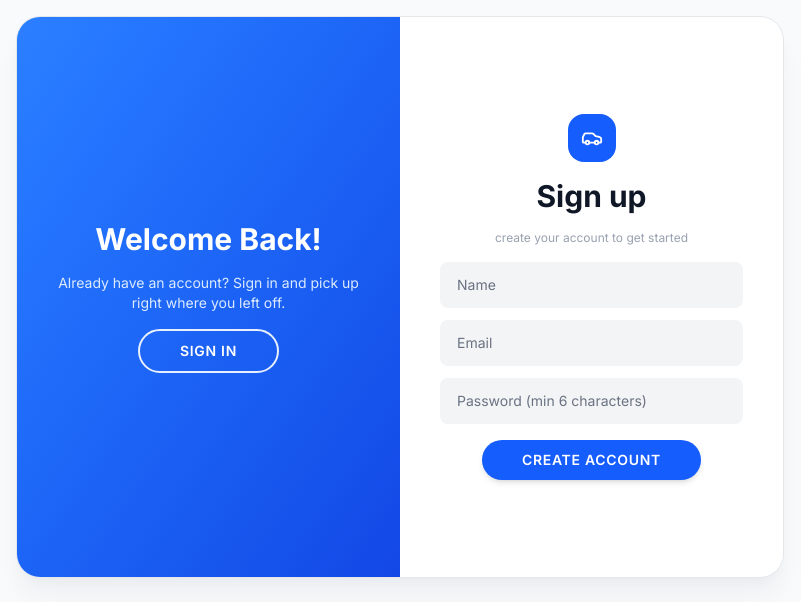
RegisterPage › shows the server error message when the email is taken
In the field labelled "Name": (592, 285) [440, 262, 743, 308], type "Krish"
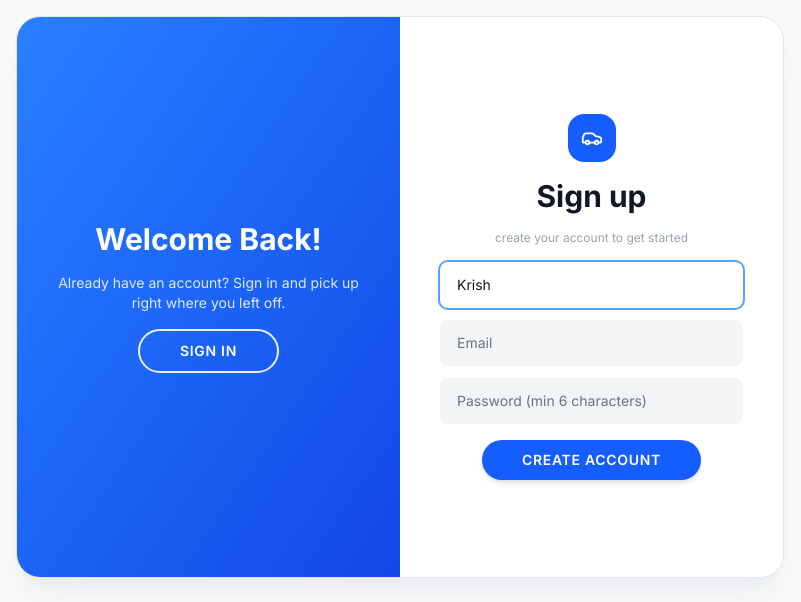
In the field labelled "Email": (592, 343) [440, 320, 743, 366], type "krish@example.com"
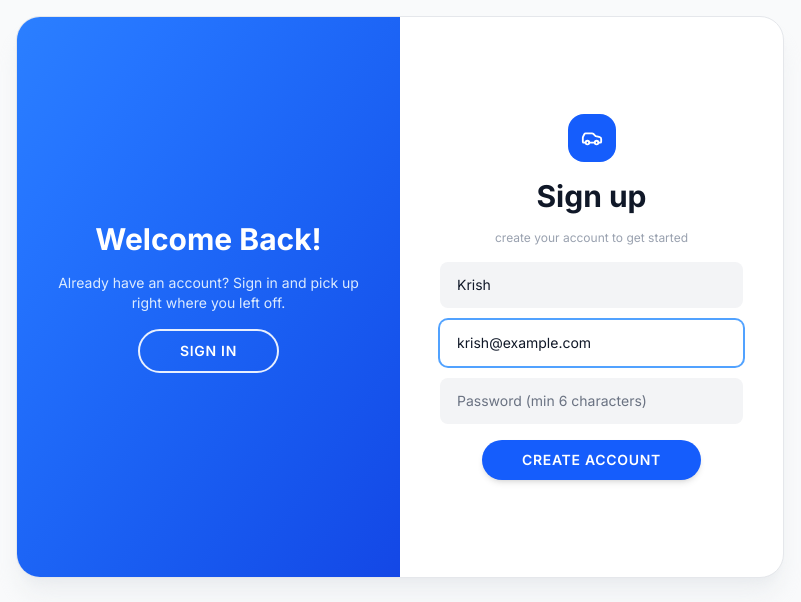
In the password field labelled "Password (min 6 characters)": (592, 401) [440, 378, 743, 424], type "Password123!"
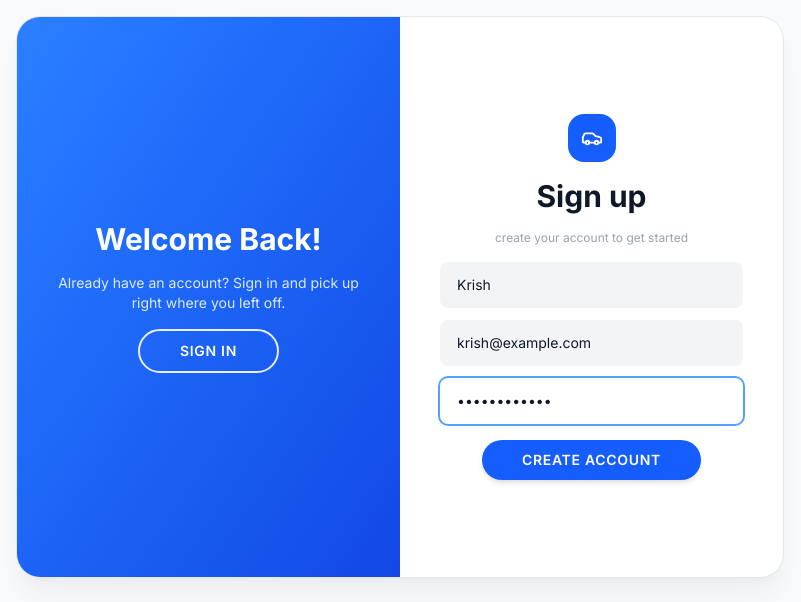
Click the button "Create account": click(591, 460) [482, 440, 701, 480]
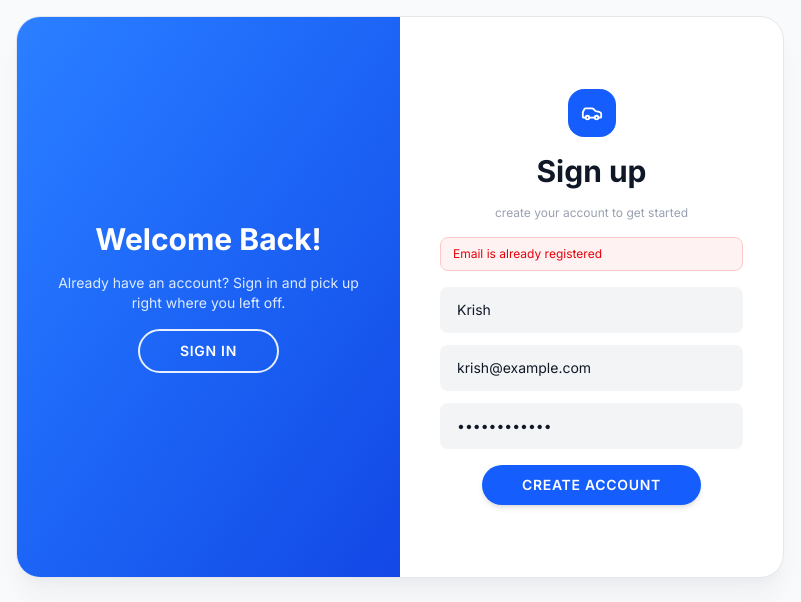
Check: the text "Email is already registered" is shown, box [440, 237, 743, 271]
